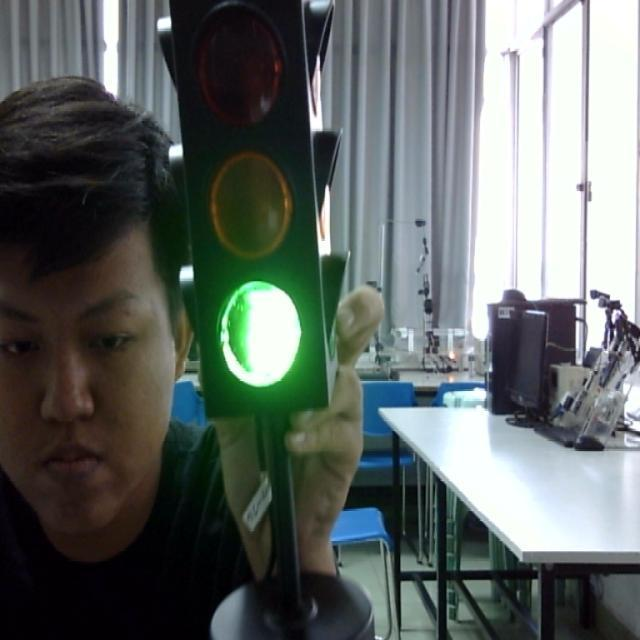green_light: (170, 4, 348, 422)
